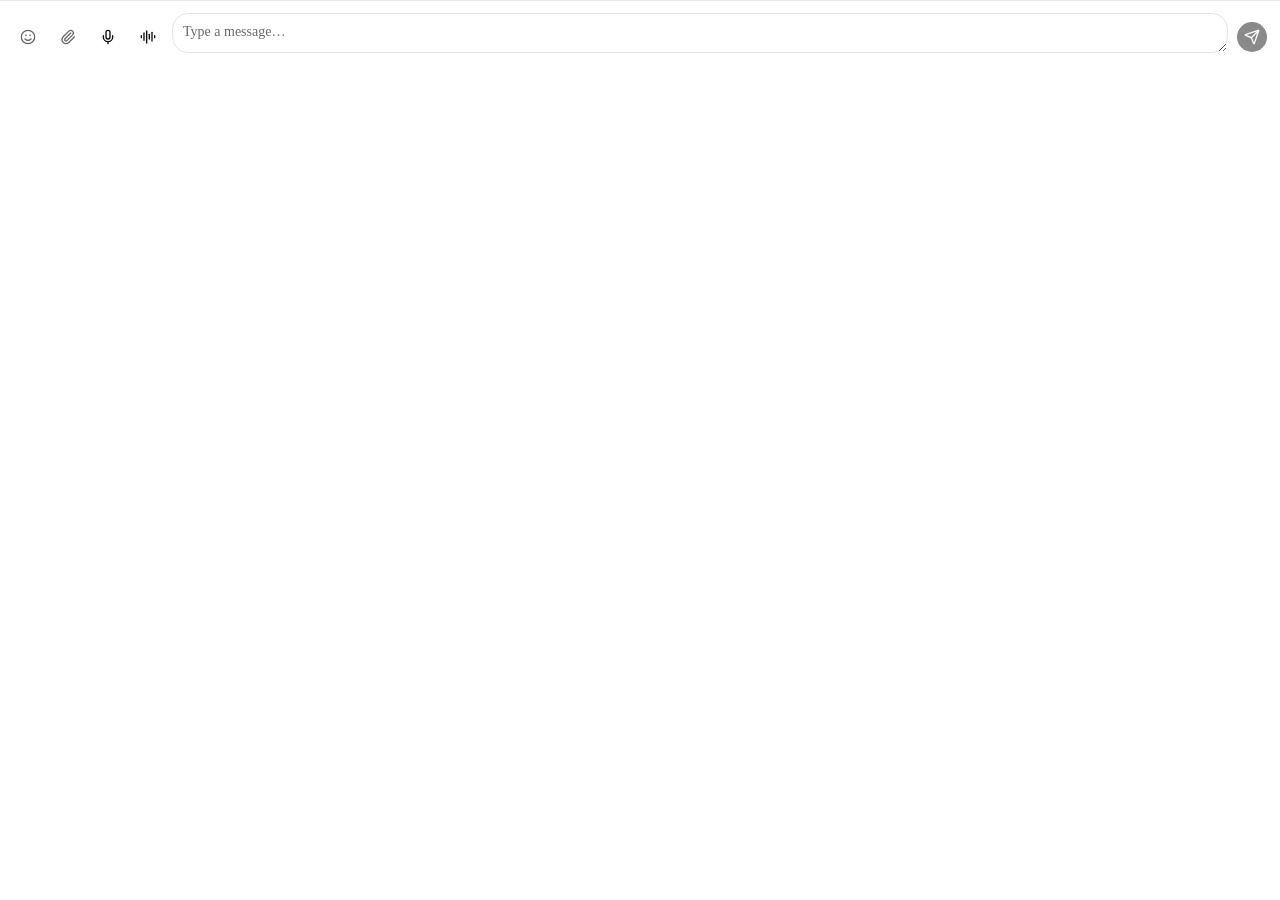
Composer › inserts emoji from the picker
This screenshot has width=1280, height=900.
Click the button named "Insert emoji".
click(28, 37)  # box [12,21,44,53]
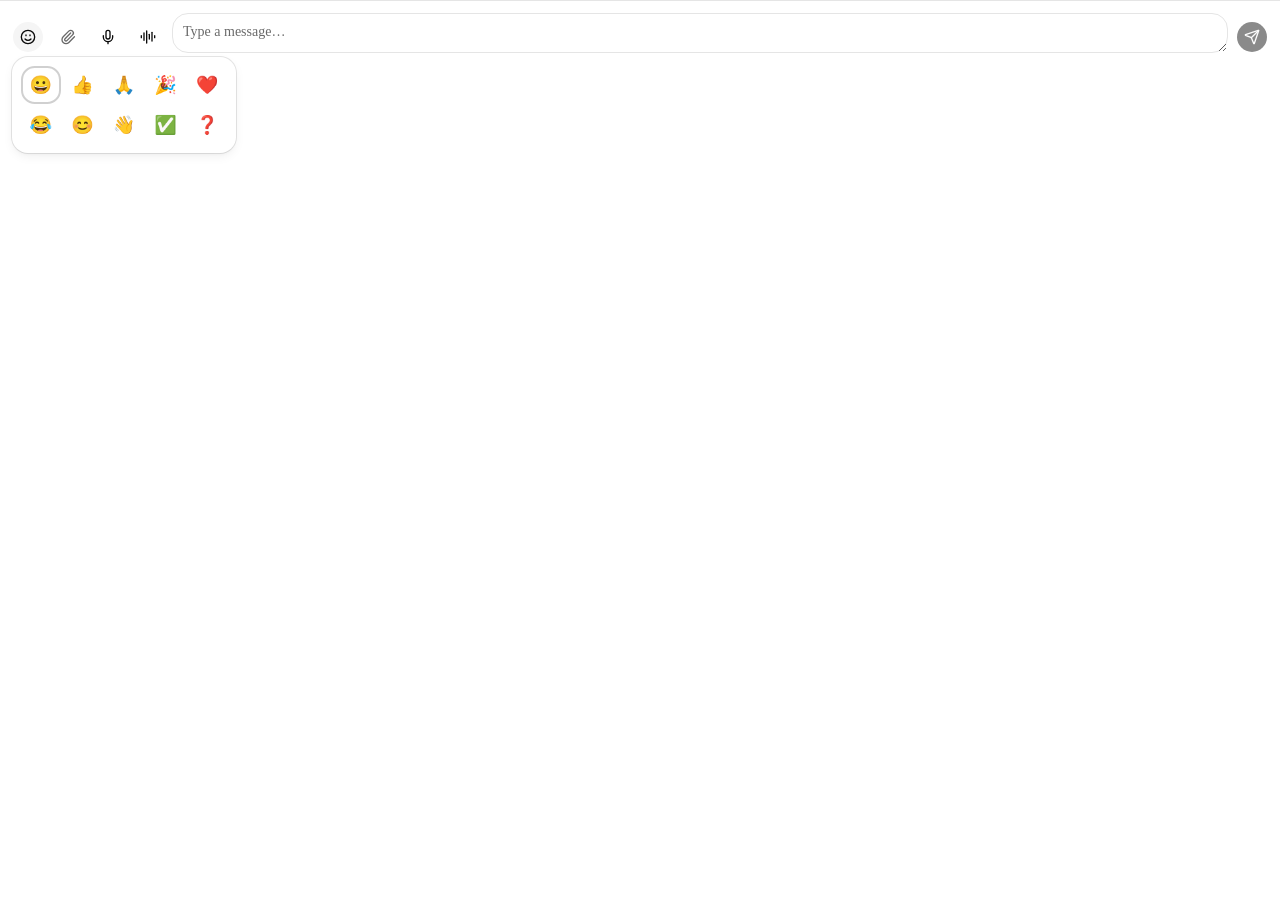
Click the button named "Insert 😀".
click(41, 85)  # box [22,67,60,103]
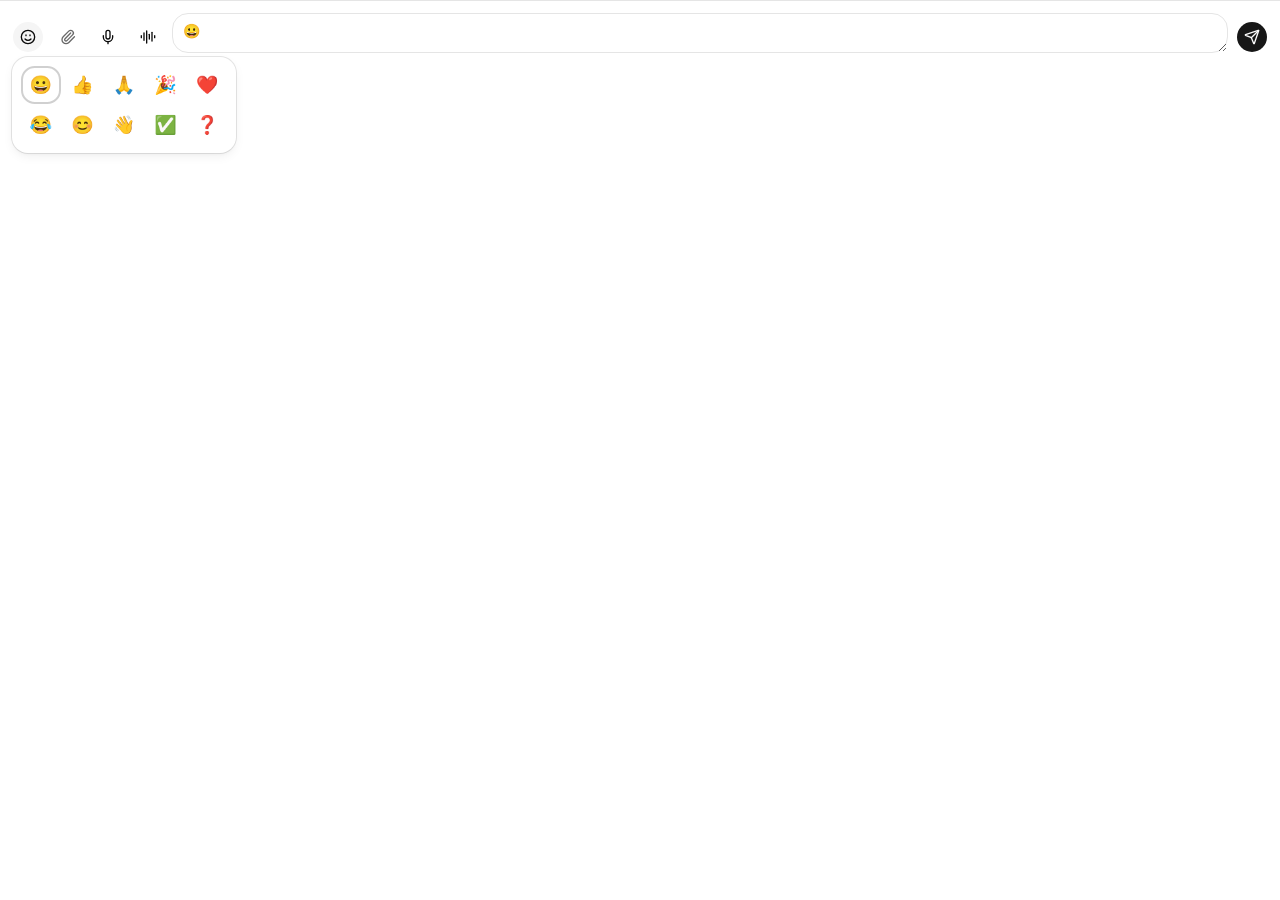
Expected: the text box named "message" holds "😀", [172,13,1228,53]
